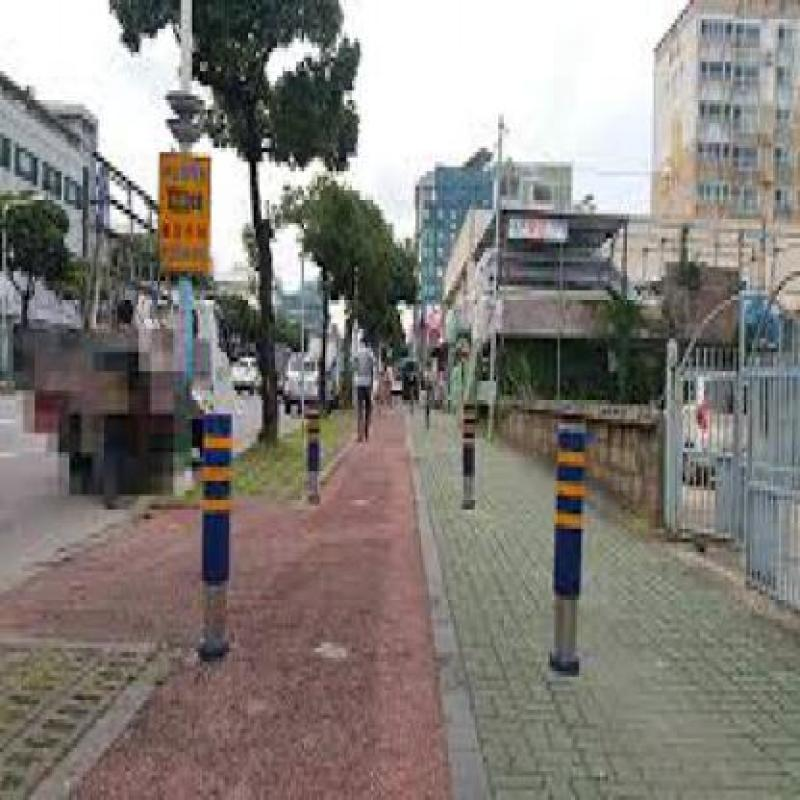bolard: (206, 400, 246, 643), (552, 432, 584, 681), (456, 403, 480, 508), (304, 387, 325, 496)
